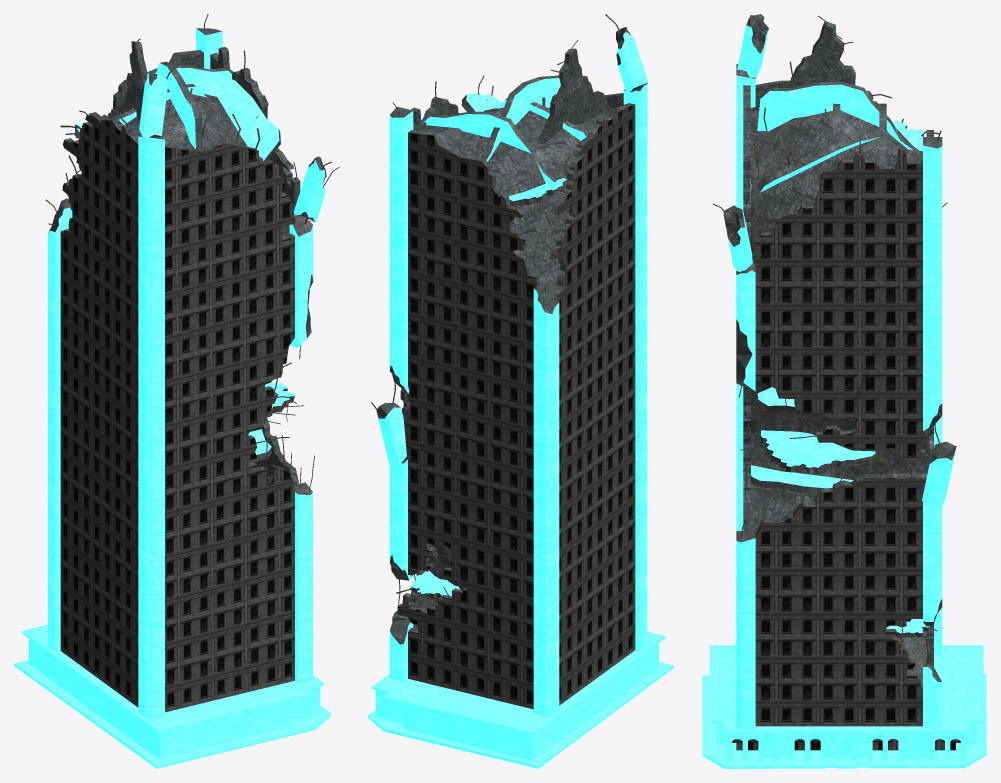
File: Building_Broken2.fbx
3 views of the same model, side by side, from view 1: azimuth 30°, elevation 25°; view 2: azimuth 150°, elevation 25°; view 3: azimuth 270°, elevation 25° (orthographic). The views are drawn at different scales.
Visible parts, largest first — view 1: SMO_BG50_BUILD_UTZ_0010_j; view 2: SMO_BG50_BUILD_UTZ_0010_j; view 3: SMO_BG50_BUILD_UTZ_0010_j.
Part boxes in pixels (x1,y1,x2,y2): SMO_BG50_BUILD_UTZ_0010_j: (14, 14, 339, 768); SMO_BG50_BUILD_UTZ_0010_j: (368, 14, 673, 768); SMO_BG50_BUILD_UTZ_0010_j: (702, 14, 986, 768).
Size of the model in its own units: 7925 by 25811 by 9757.
